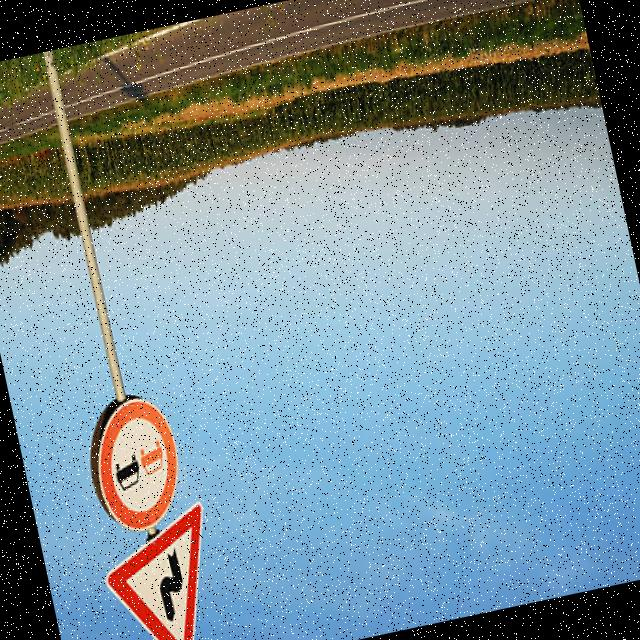no_passing: (73, 381, 193, 540)
